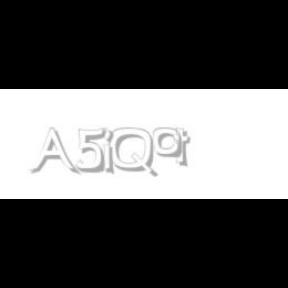5: (76, 128, 106, 174)
A: (29, 128, 77, 176)
Q: (110, 128, 156, 178)
i: (102, 128, 118, 176)
o: (153, 128, 182, 158)
t: (173, 128, 195, 168)
